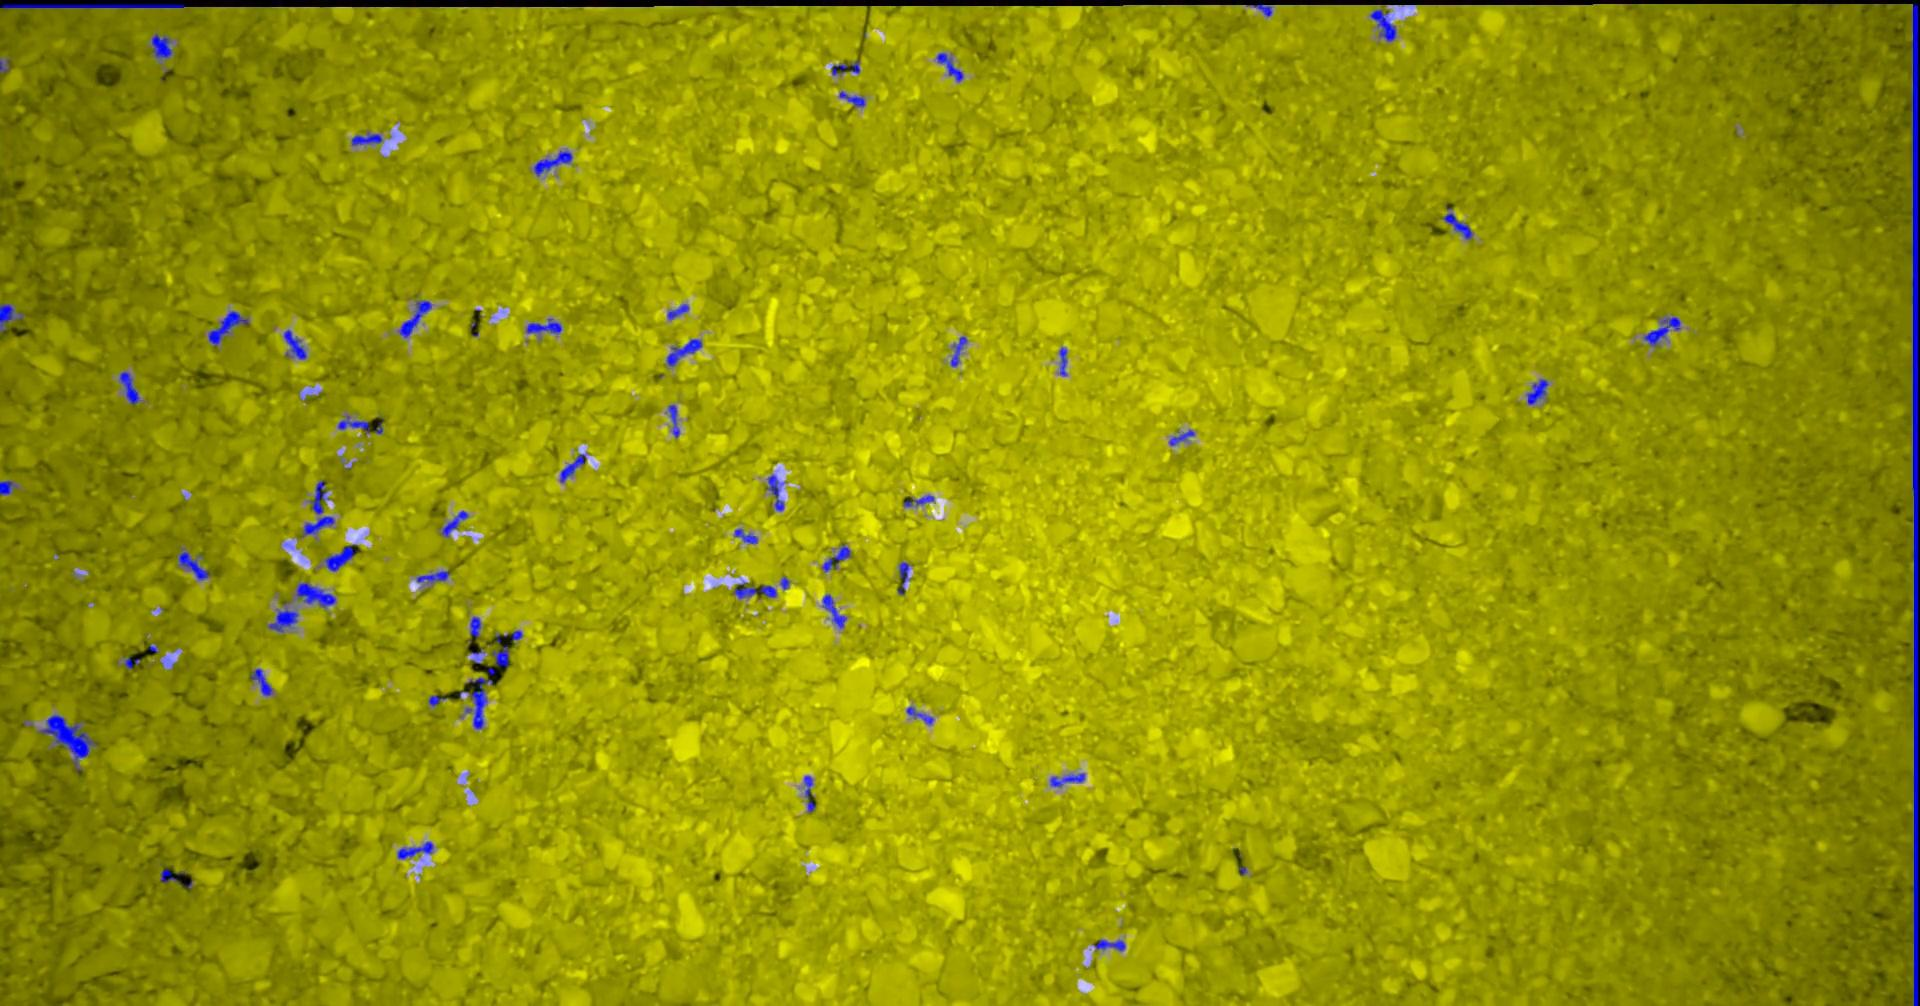ant: (38, 714, 97, 771), (458, 666, 494, 729), (301, 480, 333, 536), (207, 310, 248, 344), (399, 300, 430, 337), (1643, 316, 1679, 345), (295, 582, 335, 607), (533, 150, 571, 177), (665, 338, 701, 366), (0, 3, 183, 8), (1443, 207, 1472, 239), (324, 544, 357, 572), (178, 551, 210, 579), (822, 542, 850, 572), (1370, 9, 1396, 41), (822, 594, 846, 627), (936, 52, 963, 81), (267, 607, 298, 631), (559, 453, 585, 481), (733, 582, 776, 598), (283, 329, 306, 359), (441, 511, 467, 536), (766, 474, 783, 511), (0, 304, 23, 332), (119, 371, 138, 404), (337, 415, 370, 433), (397, 841, 433, 857), (249, 668, 270, 695), (524, 318, 561, 333), (1526, 379, 1548, 404), (151, 33, 171, 58), (905, 706, 933, 724), (950, 337, 966, 366), (803, 775, 815, 812), (830, 58, 858, 75), (1049, 774, 1084, 786), (350, 132, 381, 145), (1168, 429, 1194, 445), (490, 645, 508, 667), (668, 404, 679, 437), (897, 561, 908, 594), (417, 570, 450, 582), (1246, 3, 1271, 17), (1093, 939, 1124, 950), (839, 91, 863, 105), (667, 304, 688, 319), (734, 528, 757, 542), (903, 495, 933, 506), (495, 630, 522, 641), (160, 868, 182, 882), (428, 694, 448, 706), (0, 480, 17, 495), (469, 616, 480, 636), (123, 657, 140, 668), (1059, 347, 1065, 375), (0, 58, 9, 72)
